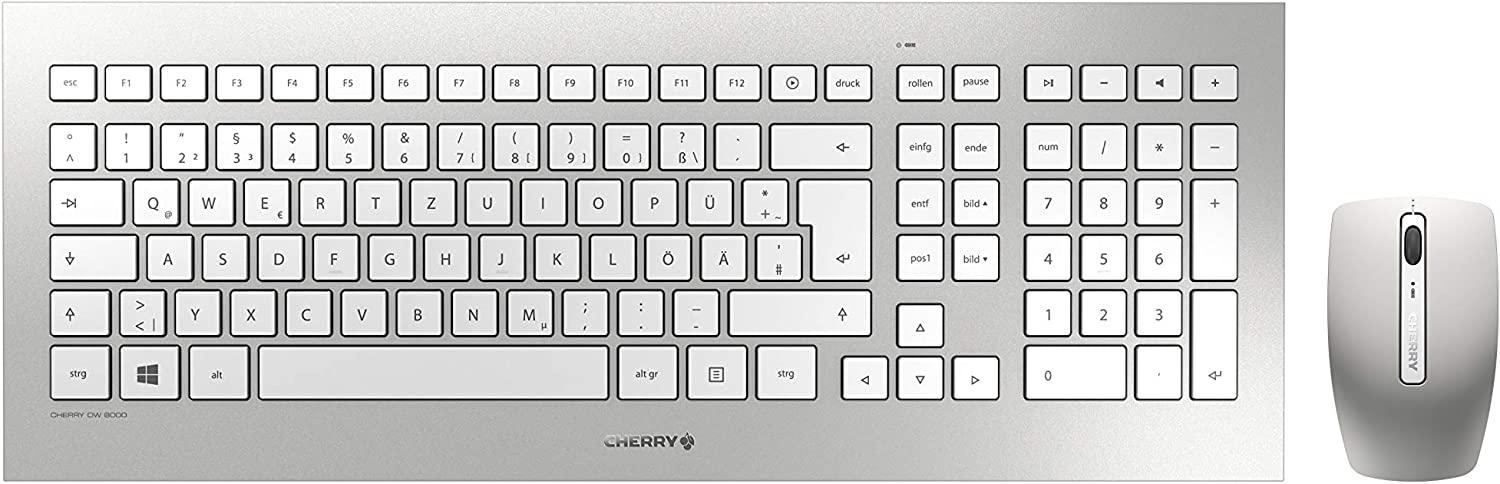0: (600, 119, 651, 169)
1: (102, 119, 152, 168)
2: (157, 120, 207, 169)
3: (212, 119, 262, 169)
4: (269, 119, 318, 168)
5: (324, 119, 374, 169)
6: (380, 119, 429, 169)
7: (435, 119, 485, 168)
8: (490, 119, 540, 169)
9: (544, 119, 595, 169)
a: (143, 229, 192, 279)
accent: (712, 119, 760, 167)
ae: (697, 228, 746, 279)
alt-left: (184, 340, 250, 400)
altgr-right: (613, 340, 679, 399)
b: (393, 284, 443, 335)
c: (282, 285, 332, 335)
caret: (46, 119, 96, 168)
comma: (559, 285, 609, 335)
d: (254, 229, 303, 279)
del: (766, 119, 871, 168)
e: (240, 173, 290, 224)
enter: (791, 171, 872, 280)
f: (310, 229, 358, 279)
g: (365, 229, 414, 279)
h: (420, 229, 470, 280)
hash: (752, 229, 802, 279)
i: (518, 173, 566, 224)
j: (476, 228, 524, 279)
k: (531, 228, 581, 279)
keyboard: (2, 3, 1285, 481)
l: (587, 228, 635, 279)
less: (115, 285, 165, 335)
m: (503, 285, 554, 336)
minus: (670, 286, 719, 334)
n: (448, 285, 499, 335)
o: (572, 173, 622, 224)
oe: (642, 229, 691, 279)
p: (629, 174, 678, 223)
plus: (739, 173, 788, 223)
point: (615, 285, 664, 334)
q: (128, 174, 179, 224)
r: (297, 174, 345, 224)
s: (198, 230, 247, 279)
shift-left: (44, 285, 110, 335)
shift-lock: (46, 229, 138, 279)
shift-right: (724, 285, 872, 334)
space: (254, 341, 610, 399)
ss: (656, 119, 706, 168)
strg-left: (45, 341, 112, 399)
strg-right: (752, 340, 820, 399)
t: (352, 173, 400, 224)
tab: (45, 174, 123, 224)
u: (462, 173, 512, 224)
ue: (684, 174, 732, 224)
v: (338, 284, 387, 335)
w: (185, 173, 234, 224)
x: (227, 284, 277, 335)
y: (171, 285, 220, 334)
z: (407, 174, 456, 224)
